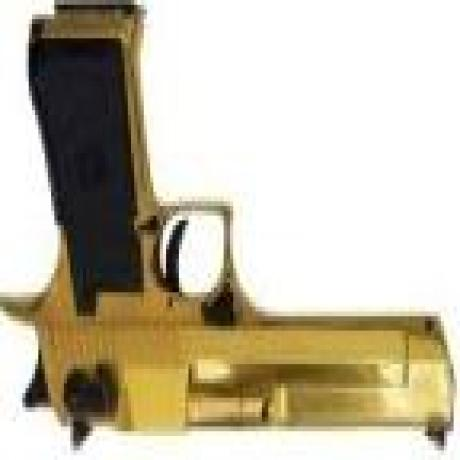weapon: (2, 0, 460, 451)
